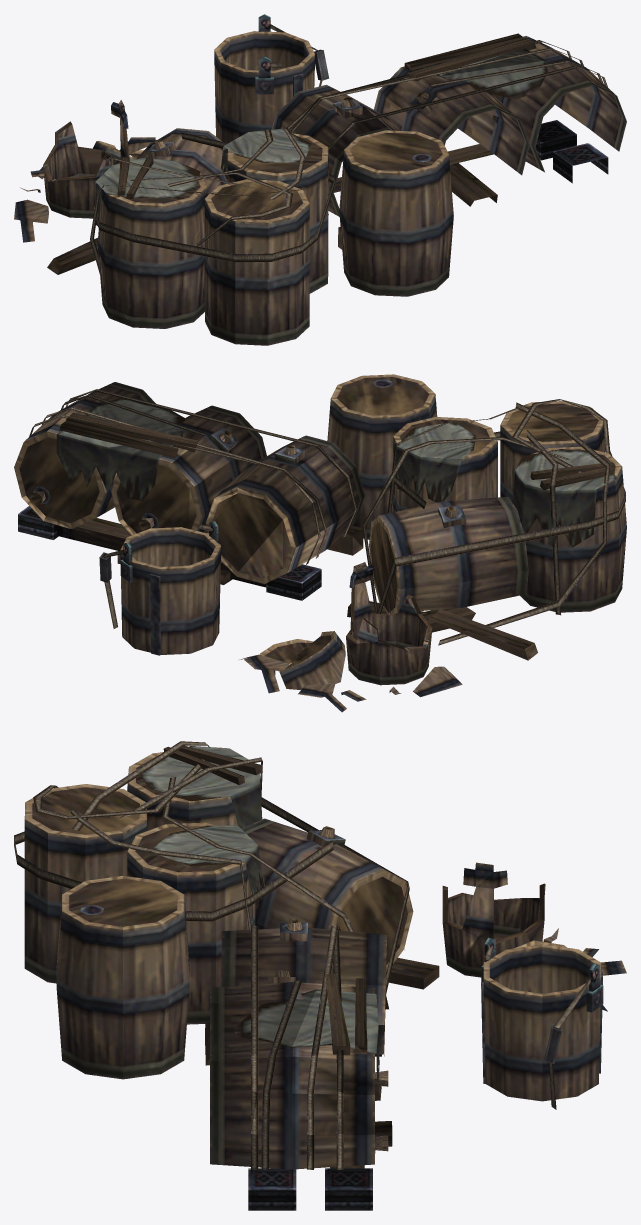
File: 2_DXSD_YuanMuTong_01.FBX
3 views of the same model, one above another, from view 1: azimuth 30°, elevation 25°; view 2: azimuth 150°, elevation 25°; view 3: azimuth 270°, elevation 25° (orthographic). The views are drawn at different scales.
Parts seen in each view (by area): view 1: 2_DXSD_YuanMuTong_02, 2_DXSD_YuanMuTong_01, 2_DXSD_YuanMuTong_03, 2_DXSD_YuanMuTong_04, 2_DXSD_YuanMuTong_05; view 2: 2_DXSD_YuanMuTong_02, 2_DXSD_YuanMuTong_01, 2_DXSD_YuanMuTong_04, 2_DXSD_YuanMuTong_05, 2_DXSD_YuanMuTong_03; view 3: 2_DXSD_YuanMuTong_02, 2_DXSD_YuanMuTong_01, 2_DXSD_YuanMuTong_03, 2_DXSD_YuanMuTong_04, 2_DXSD_YuanMuTong_05.
Part boxes in pixels (x1,y1,x2,y2): 2_DXSD_YuanMuTong_02: [47, 128, 334, 345]; 2_DXSD_YuanMuTong_01: [271, 33, 626, 249]; 2_DXSD_YuanMuTong_03: [339, 130, 453, 296]; 2_DXSD_YuanMuTong_04: [214, 14, 329, 142]; 2_DXSD_YuanMuTong_05: [14, 100, 156, 242]; 2_DXSD_YuanMuTong_02: [347, 399, 626, 660]; 2_DXSD_YuanMuTong_01: [14, 382, 364, 600]; 2_DXSD_YuanMuTong_04: [99, 521, 221, 655]; 2_DXSD_YuanMuTong_05: [239, 562, 462, 712]; 2_DXSD_YuanMuTong_03: [327, 374, 437, 539]; 2_DXSD_YuanMuTong_02: [14, 741, 439, 1024]; 2_DXSD_YuanMuTong_01: [205, 918, 392, 1210]; 2_DXSD_YuanMuTong_03: [56, 875, 189, 1079]; 2_DXSD_YuanMuTong_04: [481, 937, 603, 1109]; 2_DXSD_YuanMuTong_05: [442, 862, 626, 1011].
Size of the model in its own units: 771 by 216 by 625.
Materials: 1 (1 with a texture image).
